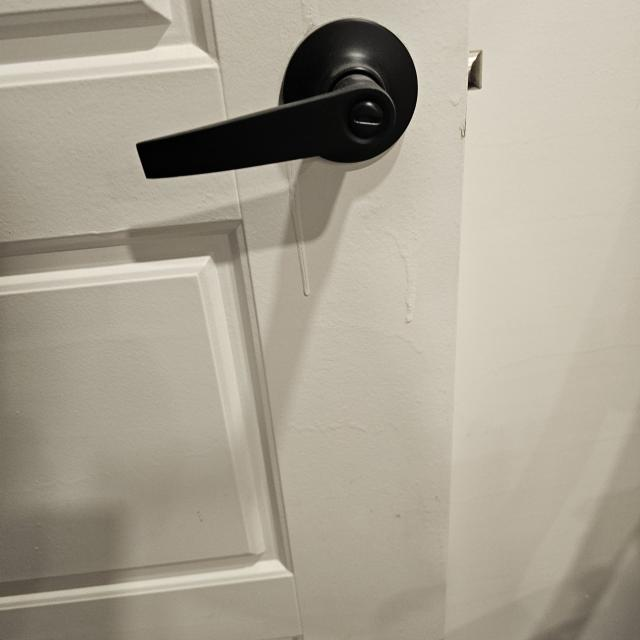door-handle: (138, 19, 418, 179)
